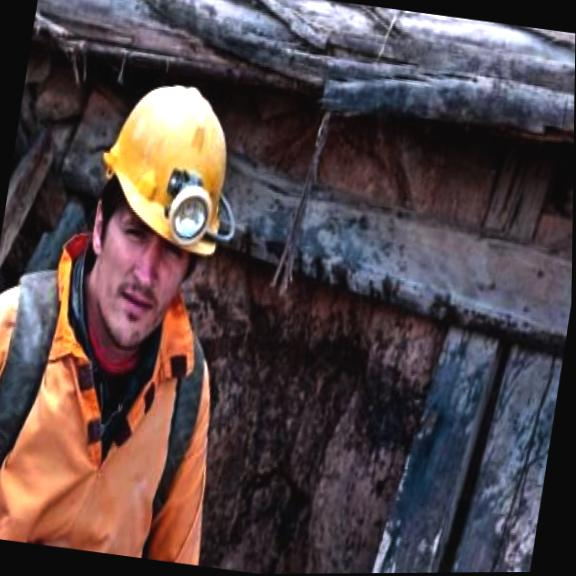no_safety_vest: (0, 247, 243, 567)
